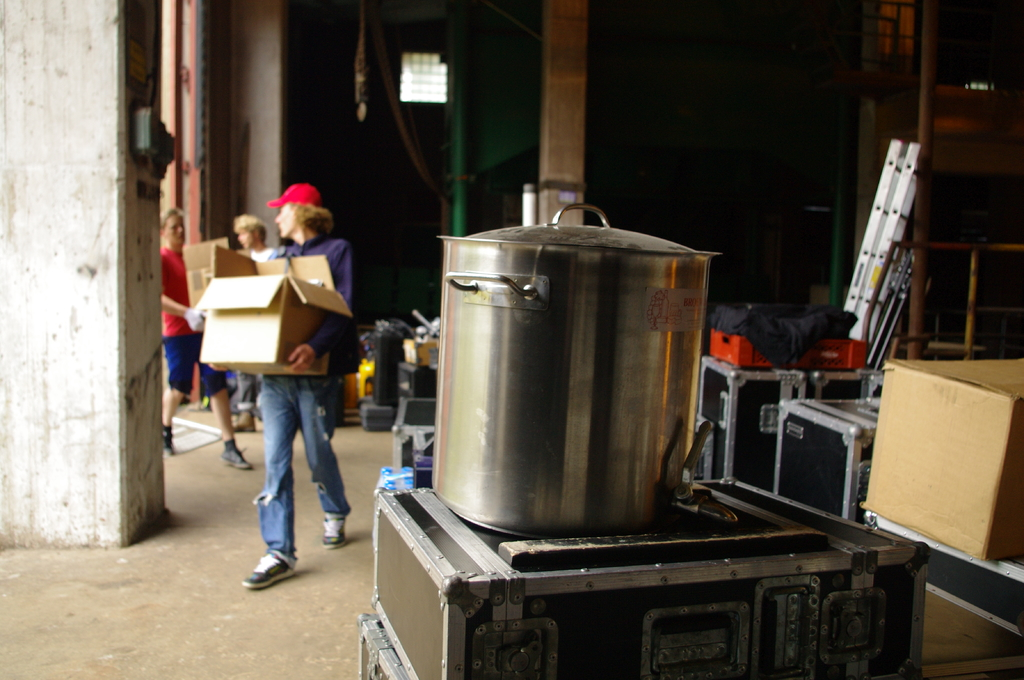Person: (241, 183, 350, 589), (160, 203, 255, 470), (229, 215, 278, 431)
